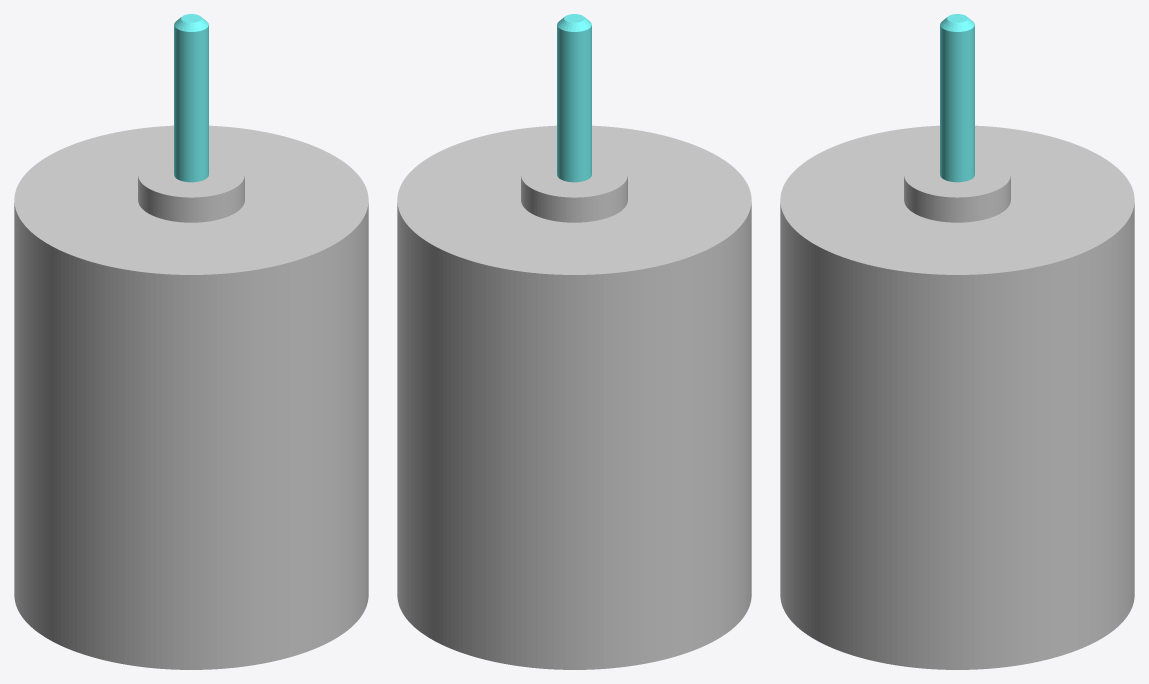
3 views of the same model, side by side, from view 1: azimuth 30°, elevation 25°; view 2: azimuth 150°, elevation 25°; view 3: azimuth 270°, elevation 25° (orthographic).
Parts seen in each view (by area): view 1: out.body, out.shaft; view 2: out.body, out.shaft; view 3: out.body, out.shaft.
Part boxes in pixels (x1=…): out.body: x1=14, y1=125, x2=368, y2=669; out.shaft: x1=174, y1=14, x2=208, y2=182; out.body: x1=397, y1=125, x2=751, y2=669; out.shaft: x1=557, y1=14, x2=591, y2=182; out.body: x1=780, y1=125, x2=1134, y2=669; out.shaft: x1=940, y1=14, x2=974, y2=182.
Size of the model in its own units: 0.0204 by 0.0383 by 0.0204.
